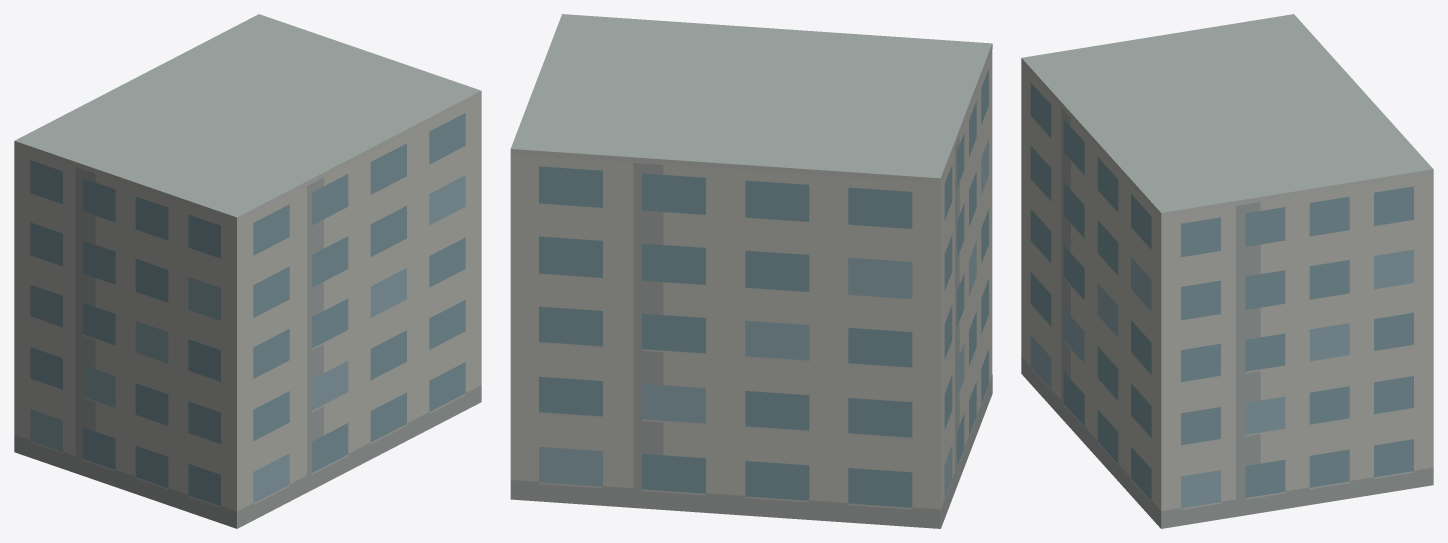
The model's file is residential-ccad2f93-6569-4b8e-966f-356ca7048203.glb.
The picture shows the model from 3 angles, left to right: view 1: azimuth 30°, elevation 25°; view 2: azimuth 150°, elevation 25°; view 3: azimuth 270°, elevation 25°; orthographic projection. The views are drawn at different scales.
Visible parts, largest first — view 1: residential-ccad2f93-6569-4b8e-966f-356ca7048203.tmp; view 2: residential-ccad2f93-6569-4b8e-966f-356ca7048203.tmp; view 3: residential-ccad2f93-6569-4b8e-966f-356ca7048203.tmp.
Part boxes in pixels (left/top/right/bottom): residential-ccad2f93-6569-4b8e-966f-356ca7048203.tmp: left=14, top=14, right=481, bottom=528; residential-ccad2f93-6569-4b8e-966f-356ca7048203.tmp: left=510, top=14, right=992, bottom=528; residential-ccad2f93-6569-4b8e-966f-356ca7048203.tmp: left=1021, top=14, right=1433, bottom=528.
Size of the model in its own units: 20.6 by 15.25 by 18.03.
